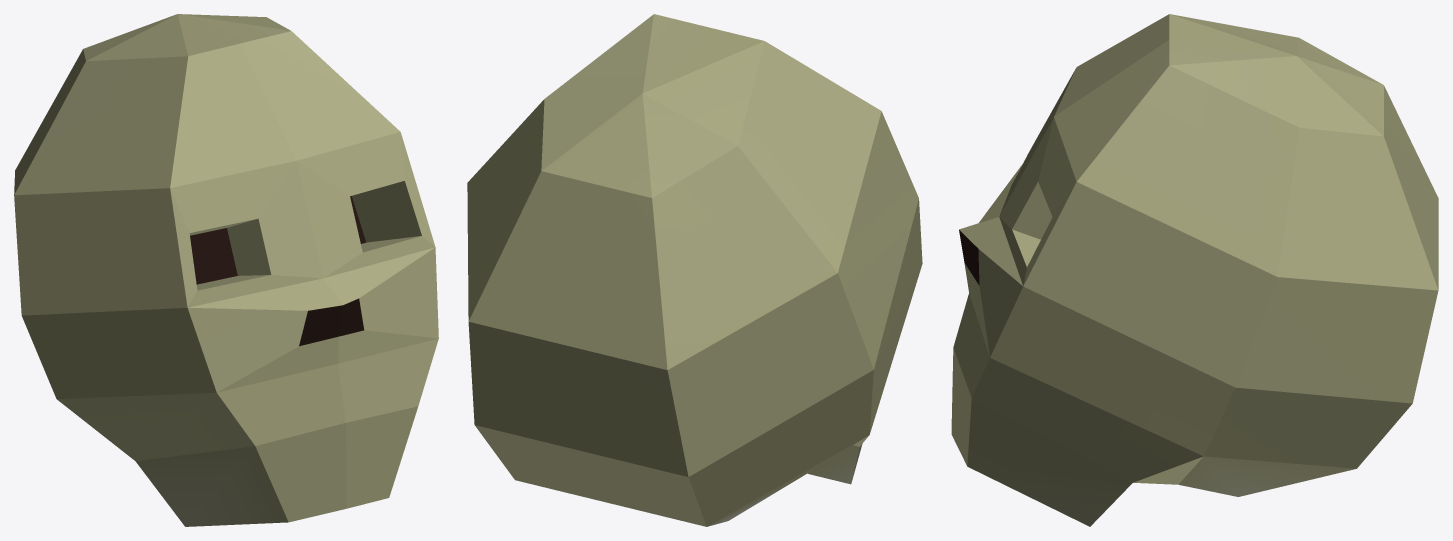
File: Skull.fbx
3 renders of one model, left to right at view 1: azimuth 30°, elevation 25°; view 2: azimuth 150°, elevation 25°; view 3: azimuth 270°, elevation 25°, orthographic. The views are drawn at different scales.
Visible parts, largest first — view 1: Skull; view 2: Skull; view 3: Skull.
Boxes of the visible parts, box(x1,y1,x2,y2) form: Skull: box(14, 14, 438, 526); Skull: box(467, 14, 922, 526); Skull: box(951, 14, 1438, 526).
Size of the model in its own units: 0.2961 by 0.3288 by 0.3293.
